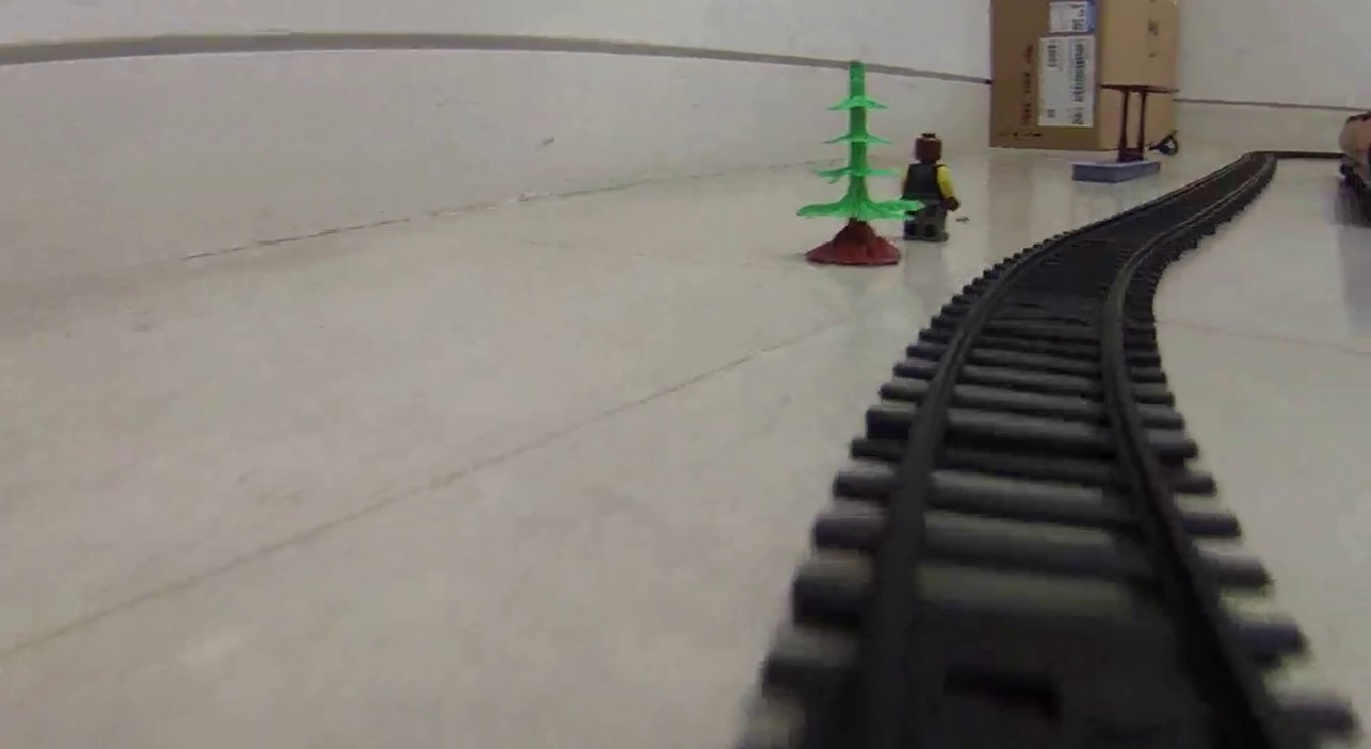people: (905, 134, 956, 244)
tree: (794, 60, 911, 265)
